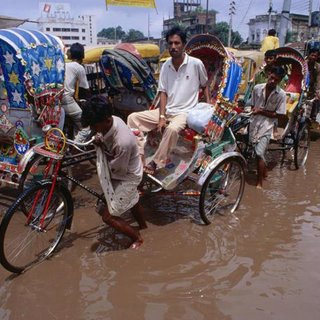Rickshaw: (9, 7, 232, 258), (249, 39, 307, 174), (5, 24, 53, 157), (94, 35, 160, 122)
